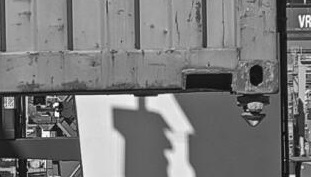twist_lock_2: (231, 85, 276, 129)
